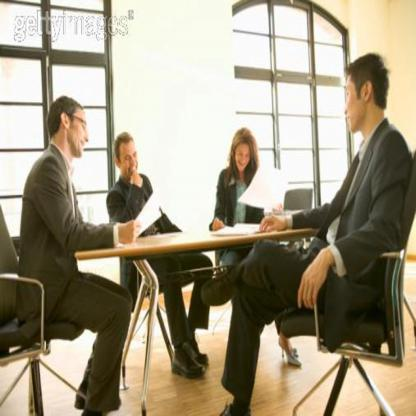face: (69, 109, 90, 158), (346, 77, 364, 133), (121, 143, 139, 179), (237, 145, 251, 173)
